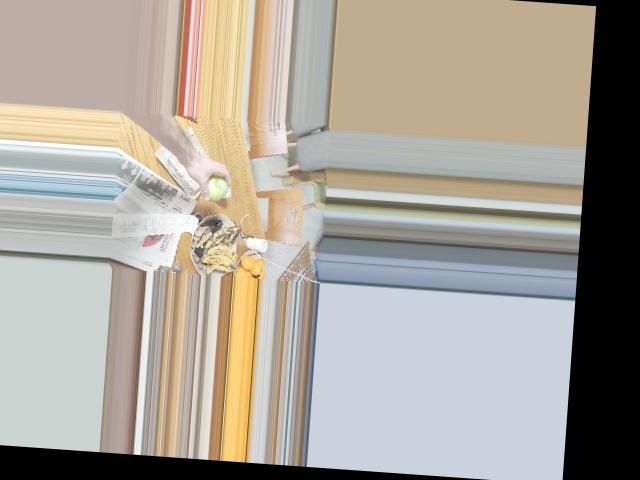apple: (201, 169, 231, 201)
